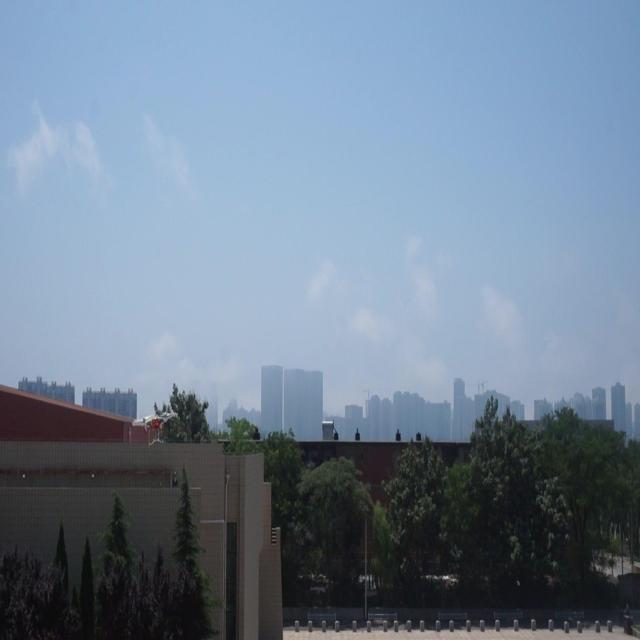drone: (423, 565, 460, 590)
